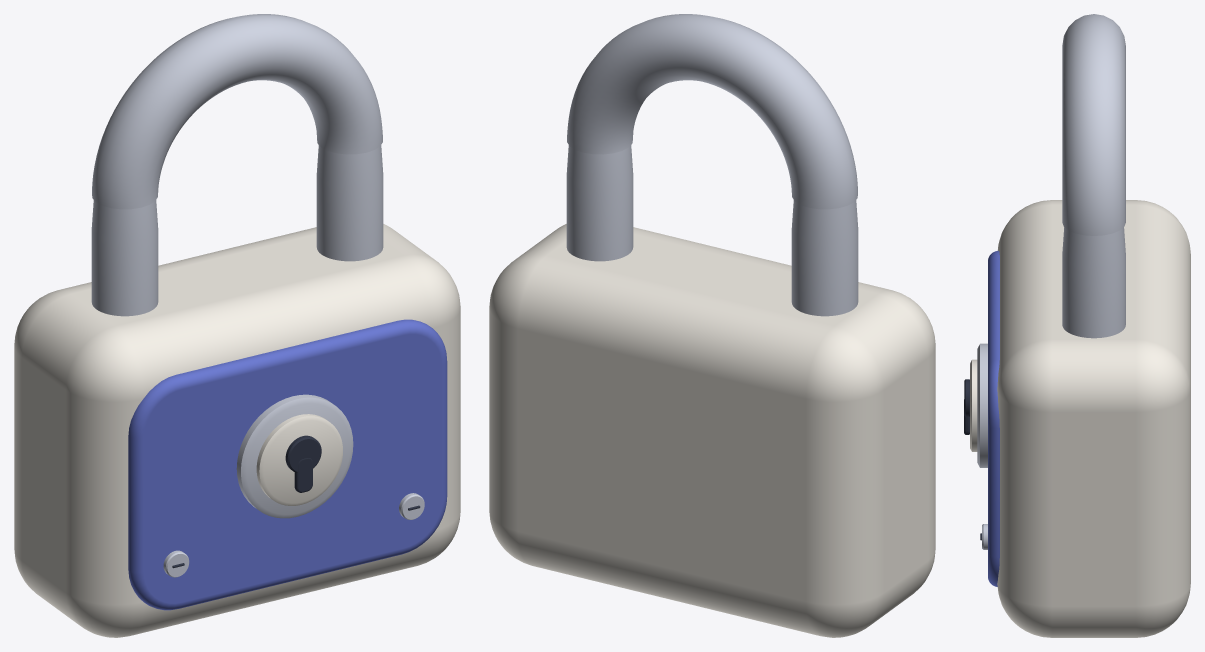
File: padlock.glb
3 views of the same model, side by side, from view 1: azimuth 30°, elevation 25°; view 2: azimuth 150°, elevation 25°; view 3: azimuth 270°, elevation 25° (orthographic). The views are drawn at different scales.
Parts seen in each view (by area): view 1: padlock; view 2: padlock; view 3: padlock.
Boxes of the visible parts, x1,y1,x2,y2 form: padlock: (14,14,460,637); padlock: (489,14,935,637); padlock: (964,14,1190,637).
Size of the model in its own units: 1.48 by 2.05 by 0.785.
